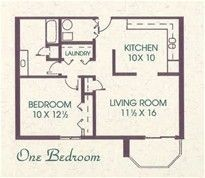door: (44, 60, 64, 78), (97, 18, 113, 35), (91, 78, 107, 91), (64, 78, 78, 91), (36, 45, 49, 55)
room: (93, 75, 184, 141), (94, 11, 181, 79), (13, 75, 99, 141), (13, 12, 96, 80)
wall: (14, 16, 20, 142), (176, 16, 182, 138), (20, 14, 98, 20), (82, 132, 145, 139), (91, 90, 99, 137), (18, 73, 67, 80), (111, 15, 180, 19), (58, 39, 91, 46), (109, 68, 137, 76), (16, 135, 59, 140), (58, 17, 63, 60), (79, 77, 86, 104), (158, 70, 181, 77), (110, 48, 116, 73), (78, 72, 96, 80), (90, 39, 96, 61), (123, 141, 130, 159), (43, 58, 59, 64)
window: (146, 135, 176, 142), (59, 134, 81, 141)
